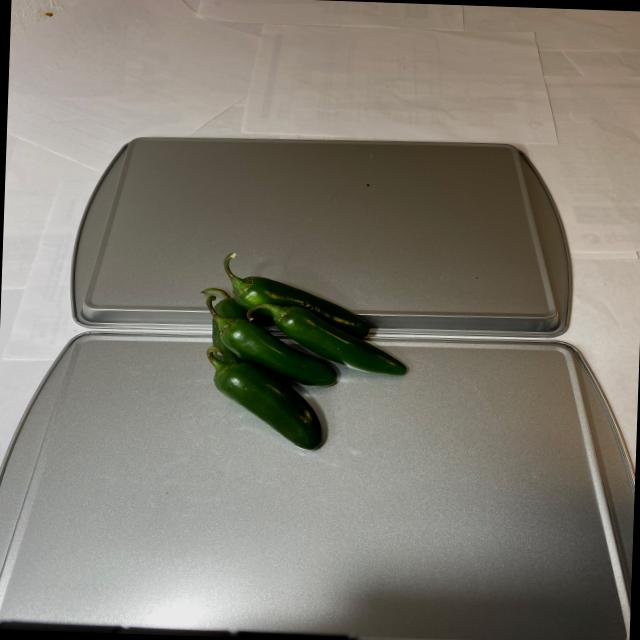chilli: (190, 244, 416, 456)
